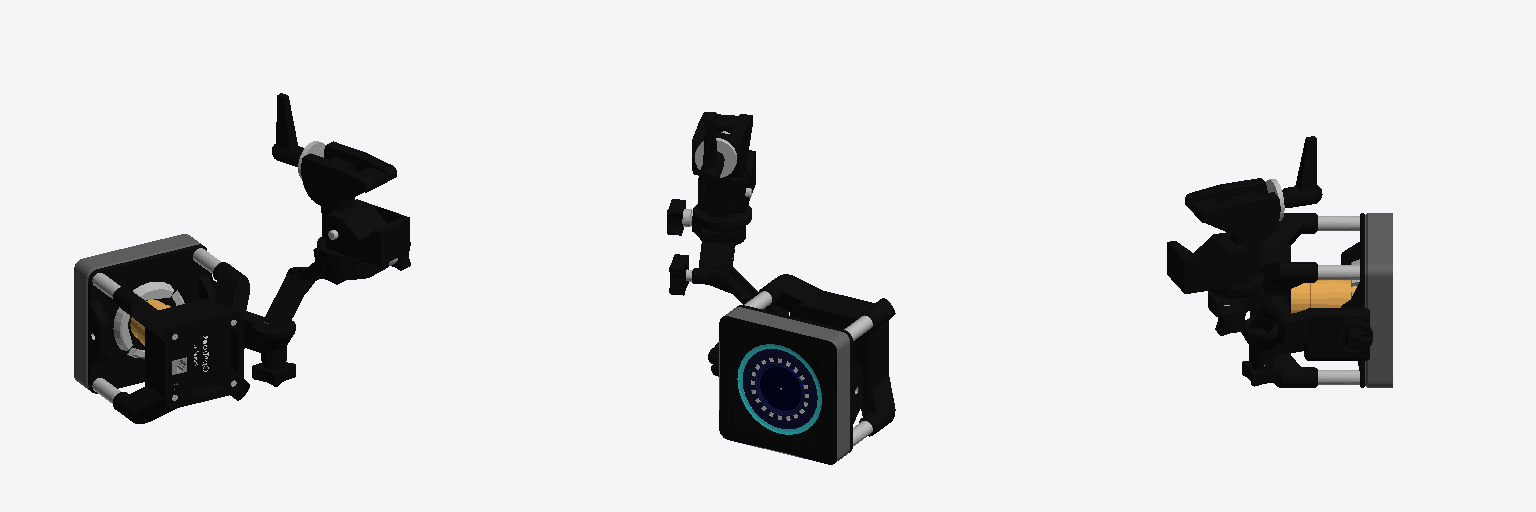
File: OptiTrackKamera.obj
3 views of the same model, side by side, from view 1: azimuth 30°, elevation 25°; view 2: azimuth 150°, elevation 25°; view 3: azimuth 270°, elevation 25° (orthographic).
Visible parts, largest first — view 1: Mesh25 Component_11_1 Model, Mesh26 Component_11_1 Model; view 2: Mesh25 Component_11_1 Model, Mesh26 Component_11_1 Model; view 3: Mesh25 Component_11_1 Model, Mesh26 Component_11_1 Model.
Part boxes in pixels (x1,y1,x2,y2): Mesh25 Component_11_1 Model: (74,234,410,423); Mesh26 Component_11_1 Model: (272,93,409,266); Mesh25 Component_11_1 Model: (667,199,895,464); Mesh26 Component_11_1 Model: (692,112,755,232); Mesh25 Component_11_1 Model: (1208,213,1392,387); Mesh26 Component_11_1 Model: (1167,136,1322,298).
Size of the model in its own units: 0.2682 by 0.2829 by 0.2079.